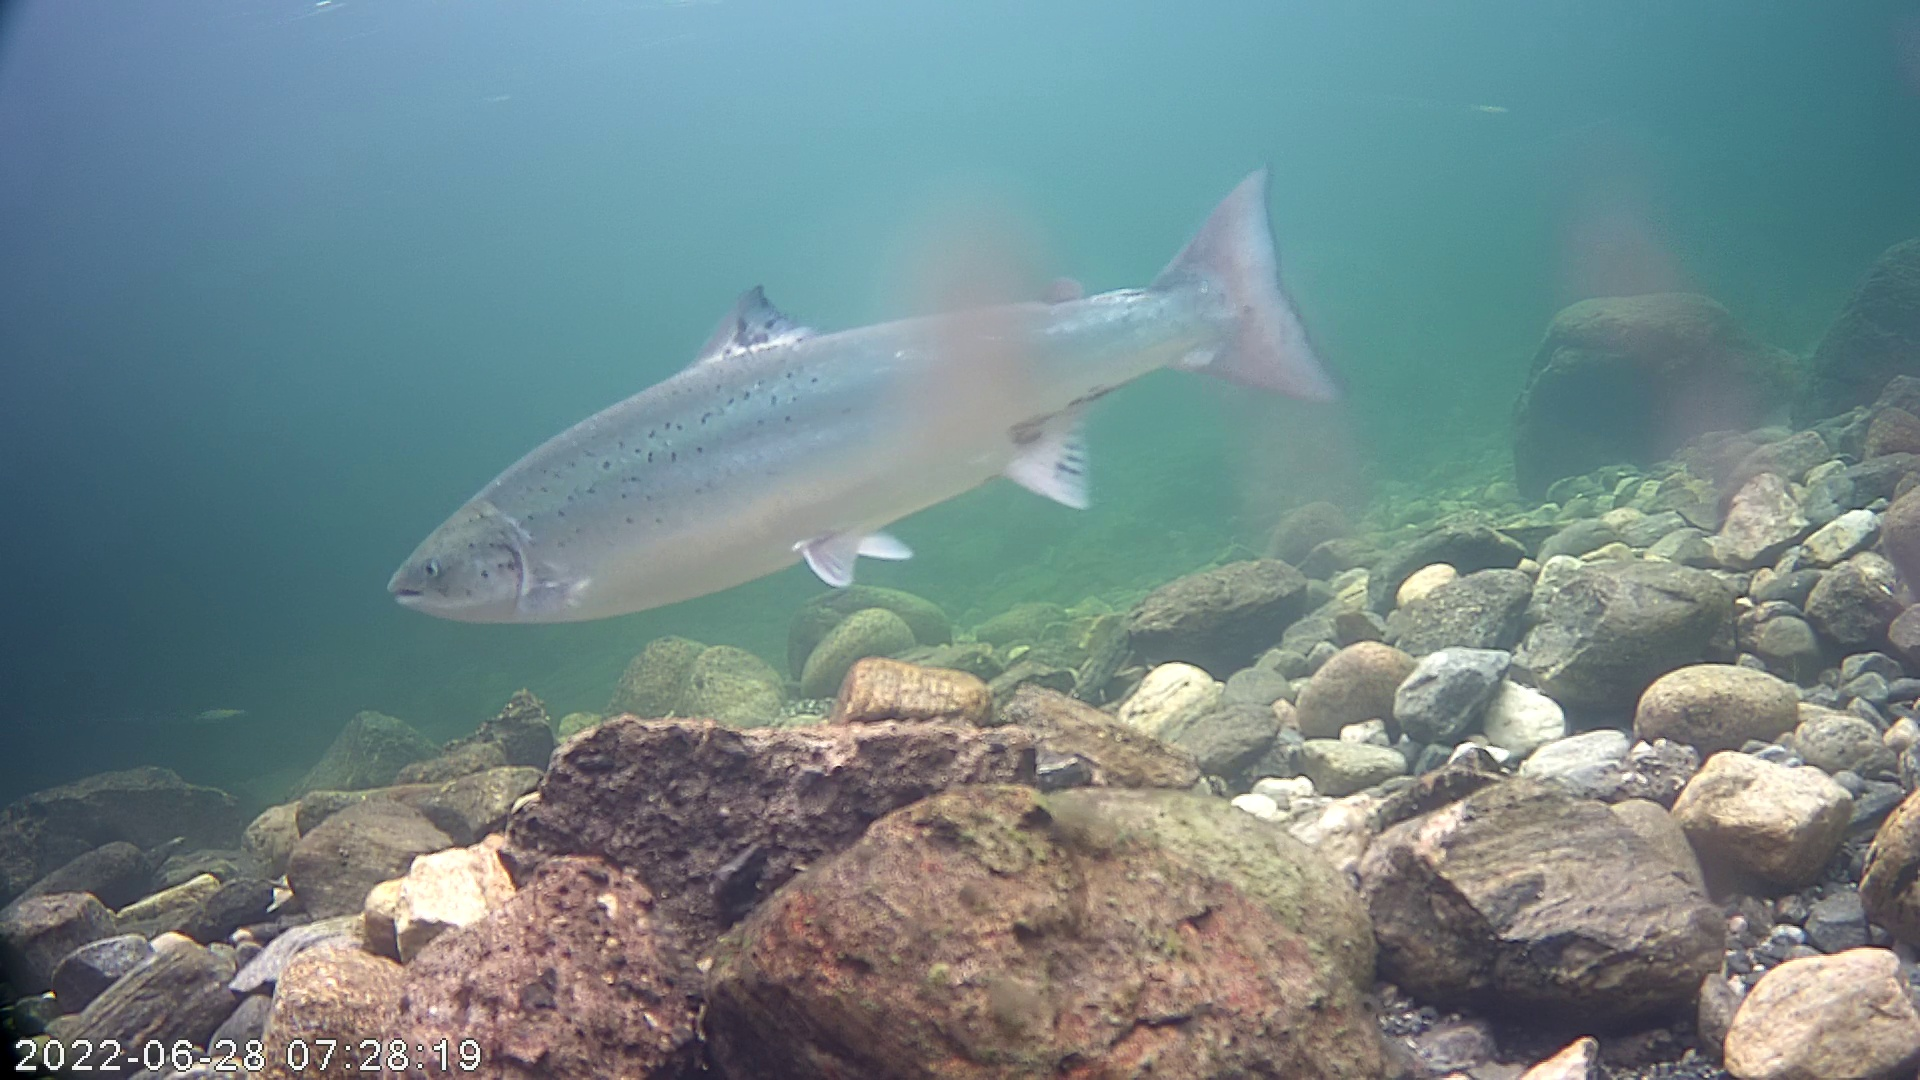salmon: (385, 141, 1369, 640)
